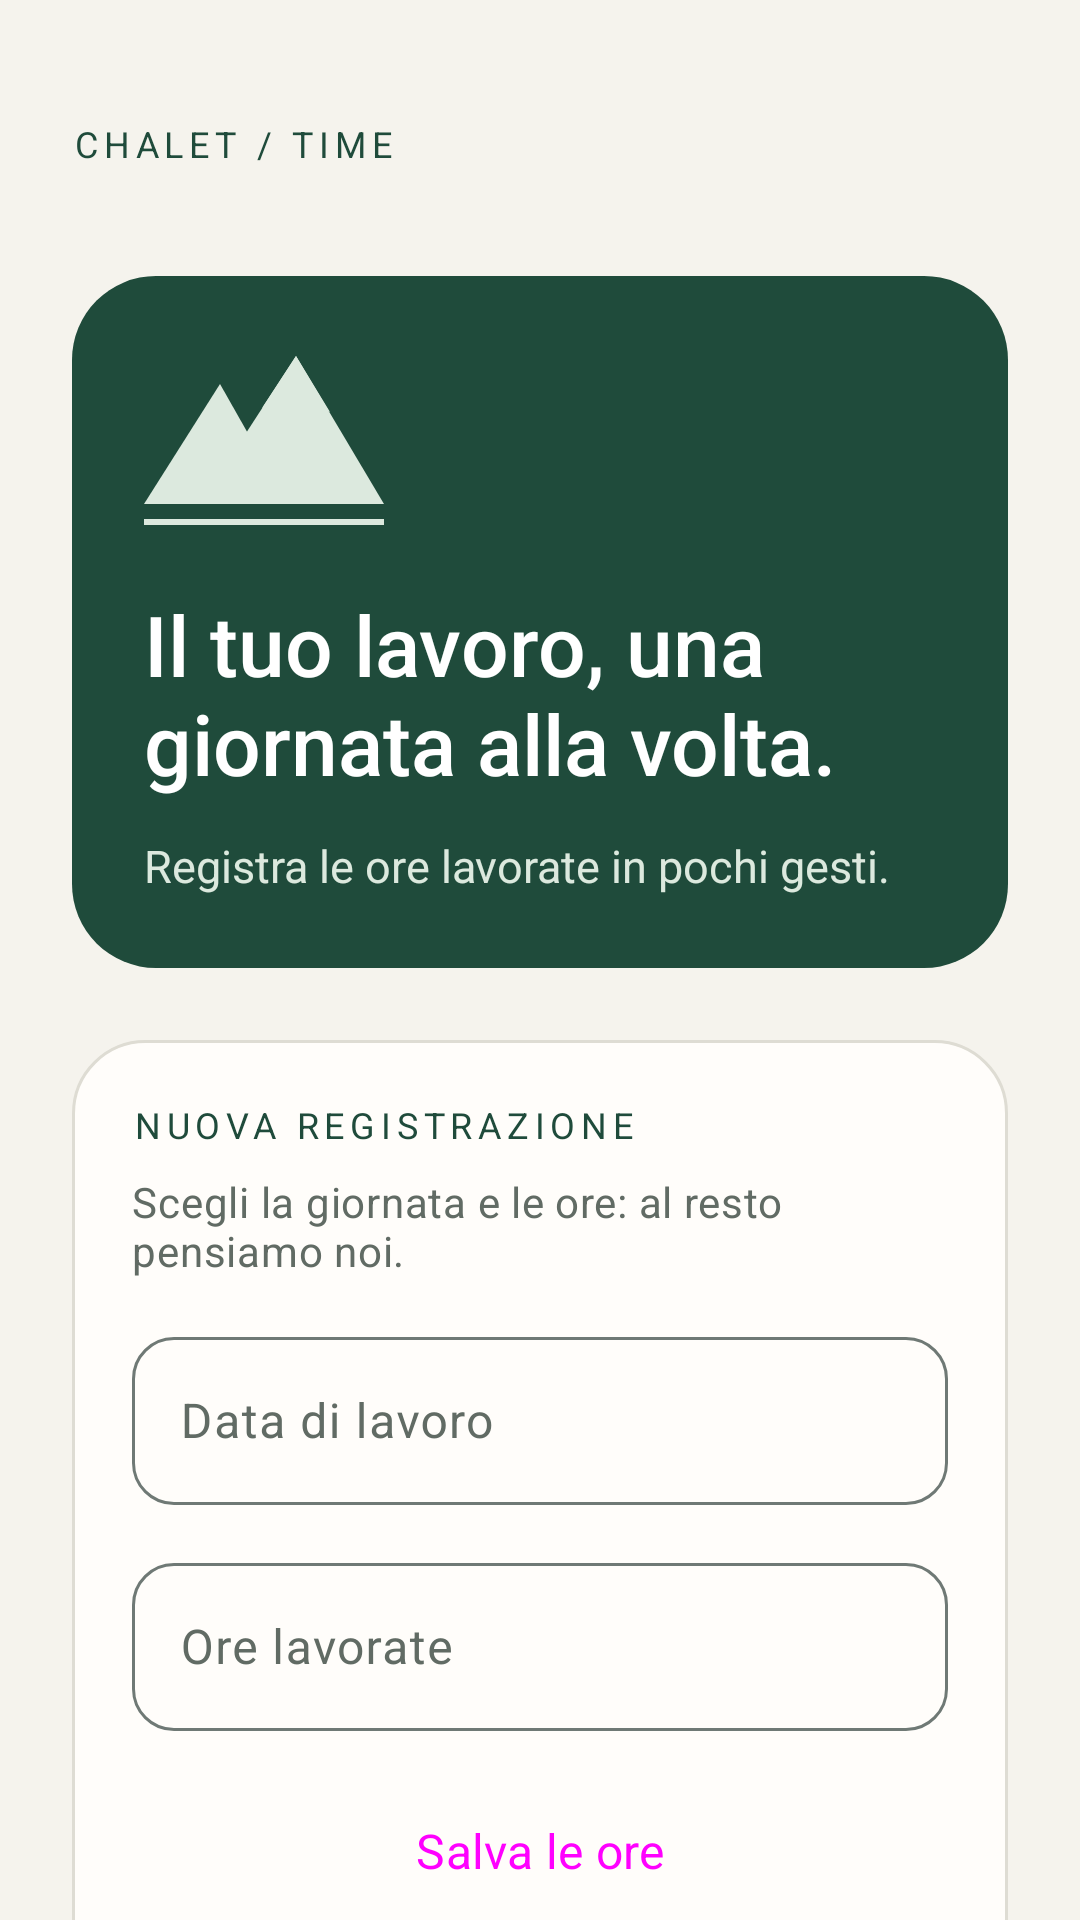

Named icons in this screenshot (1080px×1920px) and their bounding boxes, (x1, y1, x2, y2):
alpine mark: (144, 356, 384, 525)
